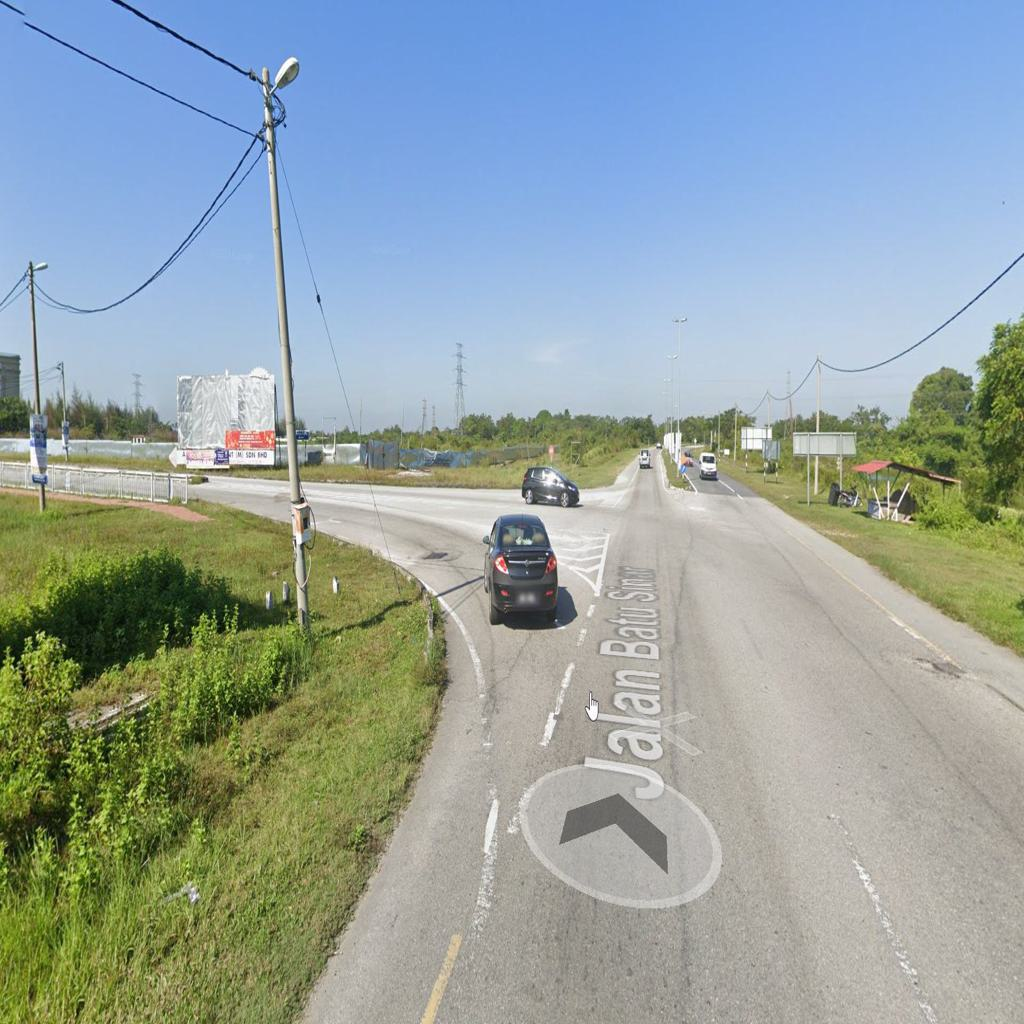Junction: (308, 421, 622, 718)
